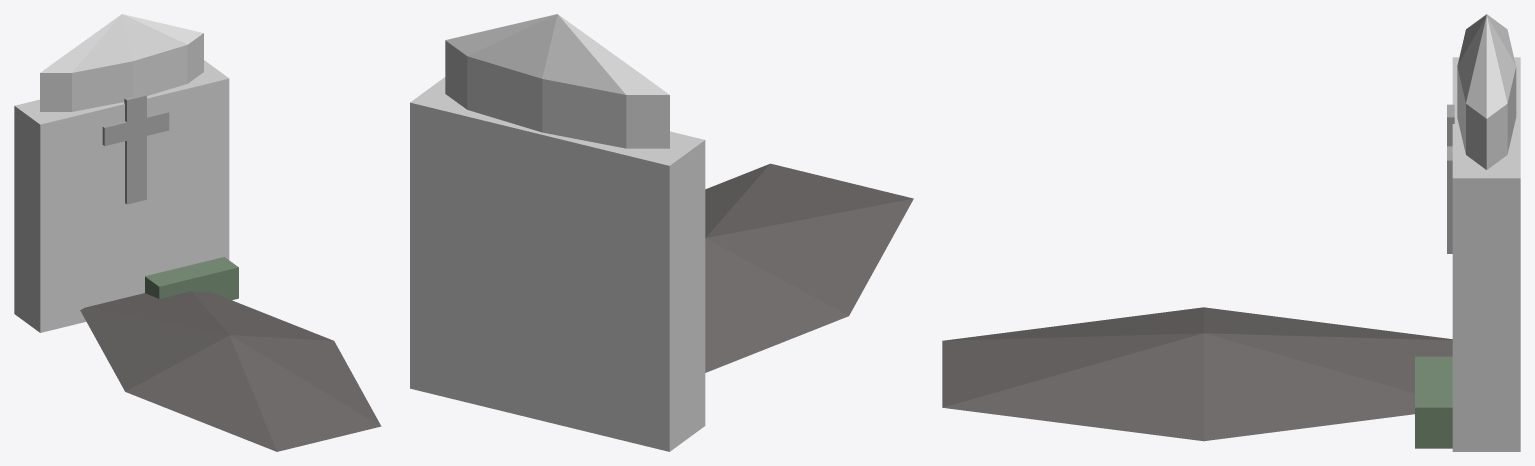
The model's file is prop_grave0.glb.
The picture shows the model from 3 angles, left to right: view 1: azimuth 30°, elevation 25°; view 2: azimuth 150°, elevation 25°; view 3: azimuth 270°, elevation 25°; orthographic projection. The views are drawn at different scales.
Visible parts, largest first — view 1: tint, body; view 2: tint, body; view 3: body, tint.
Part boxes in pixels (left/top/right/bottom): tint: left=14, top=14, right=229, bottom=332; body: left=80, top=257, right=381, bottom=451; tint: left=410, top=14, right=705, bottom=451; body: left=705, top=163, right=913, bottom=372; body: left=942, top=307, right=1452, bottom=448; tint: left=1447, top=14, right=1520, bottom=451.
Bounding box in the file's own units: 0.84 × 1.17 × 1.53.
